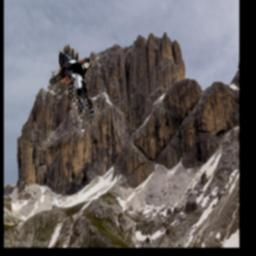Woodpecker: (49, 45, 100, 129)
